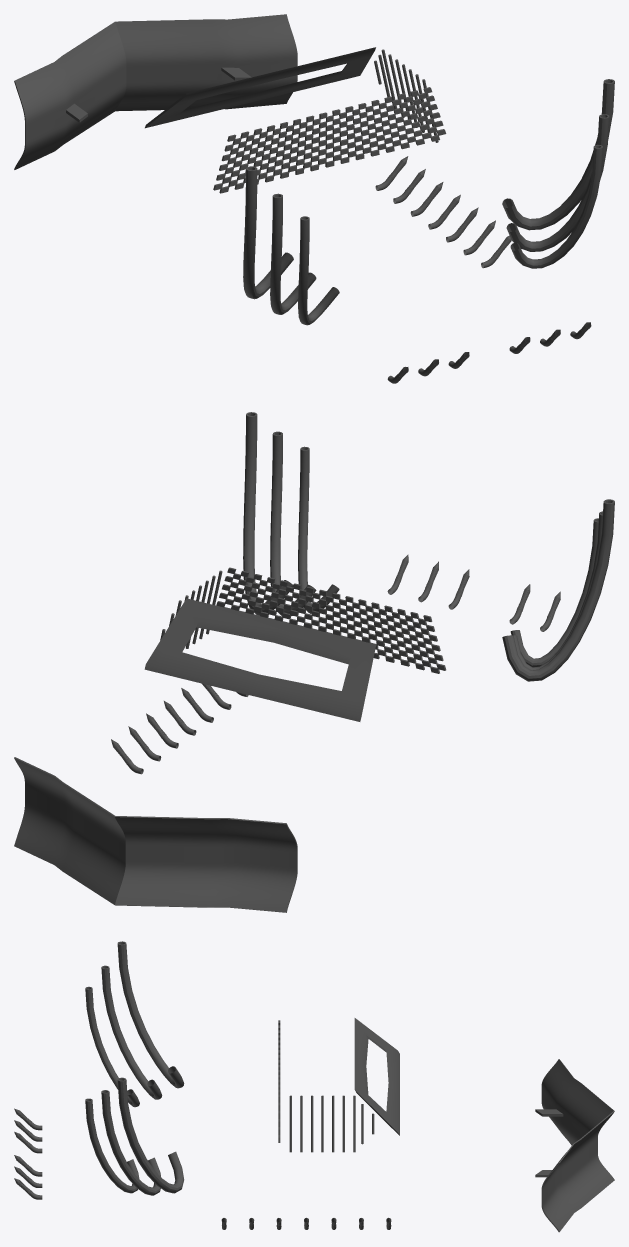
File: upgrades3k.fbx
The picture shows the model from 3 angles, top to bottom: view 1: azimuth 30°, elevation 25°; view 2: azimuth 150°, elevation 25°; view 3: azimuth 270°, elevation 25°; orthographic projection. The views are drawn at different scales.
Parts seen in each view (by area): view 1: Plane.001, BezierCurve, Plane, Cube, Elbow Joint, Cylinder, Elbow Joint.001; view 2: Plane.001, Cube, BezierCurve, Plane, Elbow Joint, Elbow Joint.001, Cylinder; view 3: BezierCurve, Plane.001, Cube, Cylinder, Elbow Joint.001, Elbow Joint.
Part boxes in pixels (box(x1,y1,x2,y2)): Plane.001: box(14, 14, 297, 169); BezierCurve: box(243, 79, 614, 325); Plane: box(213, 87, 446, 193); Cube: box(145, 47, 375, 128); Elbow Joint: box(375, 156, 511, 268); Cylinder: box(374, 49, 438, 142); Elbow Joint.001: box(387, 322, 591, 383); Plane.001: box(14, 757, 297, 912); Cube: box(144, 598, 375, 721); BezierCurve: box(243, 412, 614, 681); Plane: box(216, 567, 446, 673); Elbow Joint: box(111, 683, 248, 774); Elbow Joint.001: box(387, 554, 560, 631); Cylinder: box(160, 570, 222, 648); BezierCurve: box(85, 941, 184, 1195); Plane.001: box(535, 1059, 614, 1232); Cube: box(354, 1018, 399, 1135); Cylinder: box(289, 1095, 374, 1152); Elbow Joint.001: box(14, 1108, 42, 1199); Elbow Joint: box(221, 1217, 391, 1229).
Size of the model in its own units: 307 by 175 by 556.
Materials: 1 (1 with a texture image).
